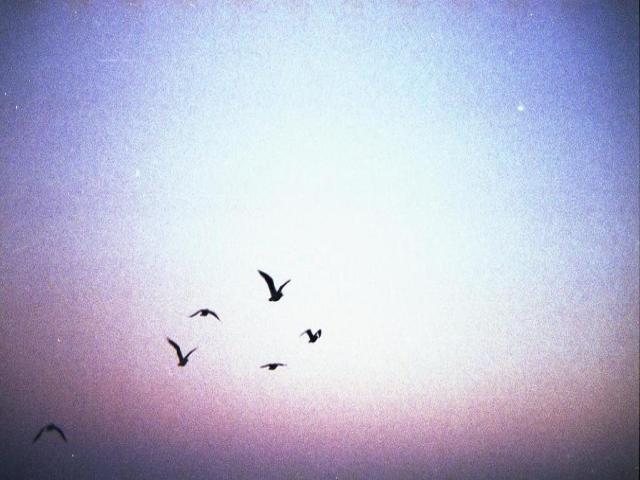Bird: (258, 269, 290, 301), (166, 332, 196, 366), (34, 420, 66, 446), (190, 301, 218, 318), (301, 324, 322, 346), (258, 359, 286, 371)
